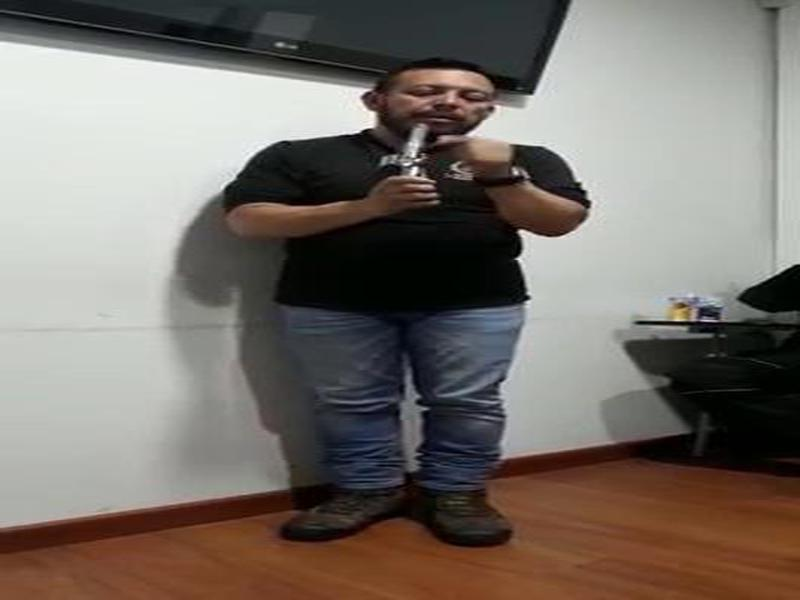Revolver: (381, 105, 453, 221)
